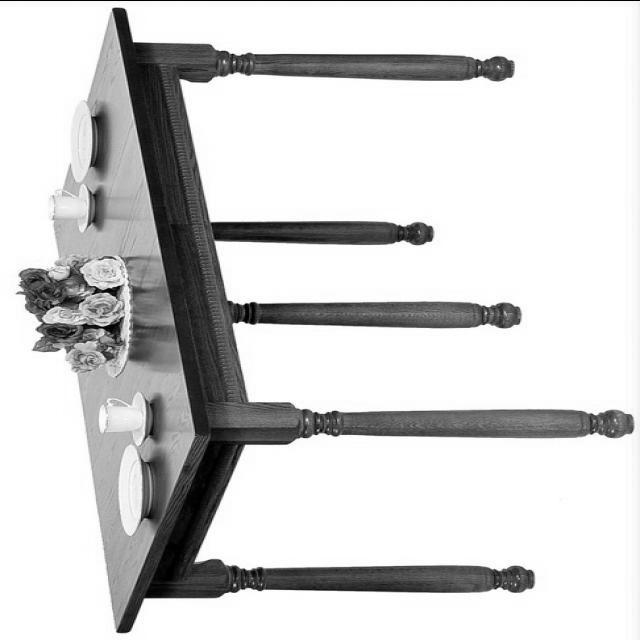table: (48, 3, 632, 633)
